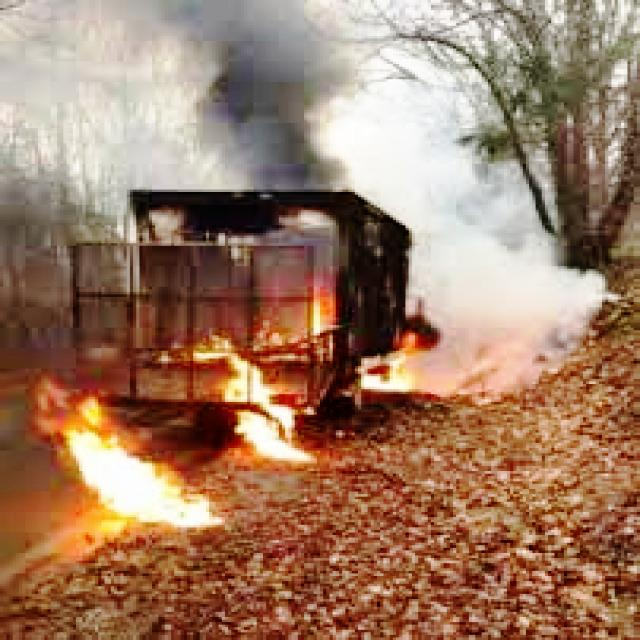api: (23, 380, 226, 549), (188, 337, 318, 470), (346, 318, 451, 408), (286, 280, 362, 334)
